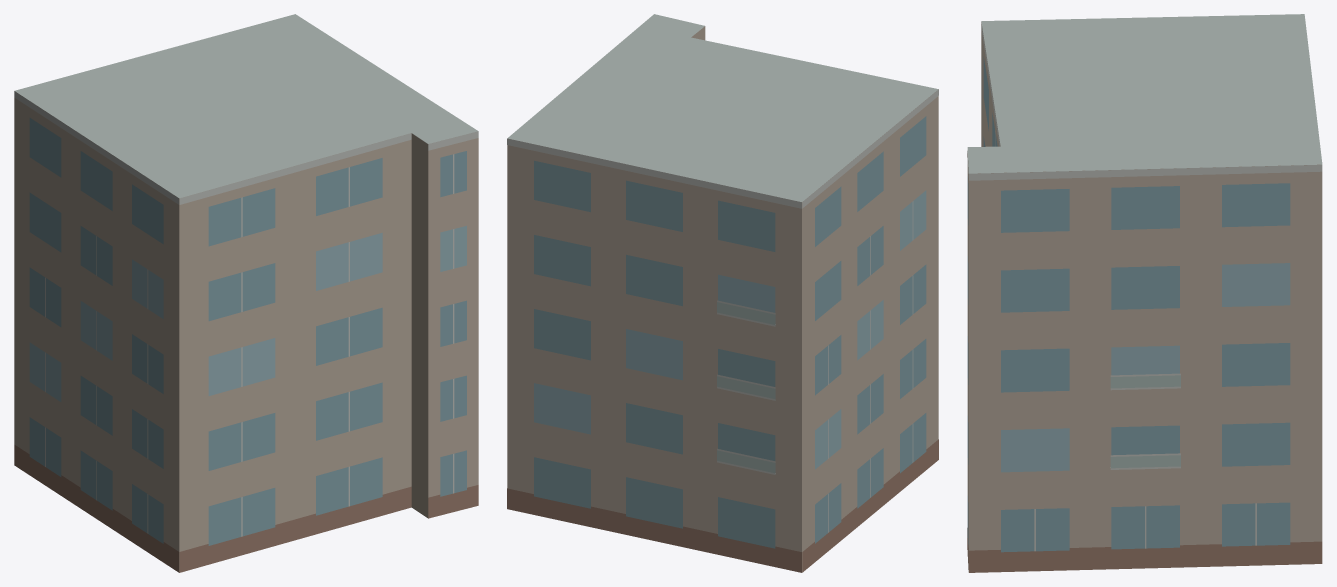
File: survey-upis-32979640.glb
3 views of the same model, side by side, from view 1: azimuth 30°, elevation 25°; view 2: azimuth 150°, elevation 25°; view 3: azimuth 270°, elevation 25° (orthographic). The views are drawn at different scales.
Parts seen in each view (by area): view 1: survey-upis-32979640.tmp; view 2: survey-upis-32979640.tmp; view 3: survey-upis-32979640.tmp.
Boxes of the visible parts, x1,y1,x2,y2 form: survey-upis-32979640.tmp: [14, 14, 478, 572]; survey-upis-32979640.tmp: [507, 14, 938, 572]; survey-upis-32979640.tmp: [967, 14, 1322, 572].
Bounding box in the file's own units: 11.76 × 13.7 × 11.05.
